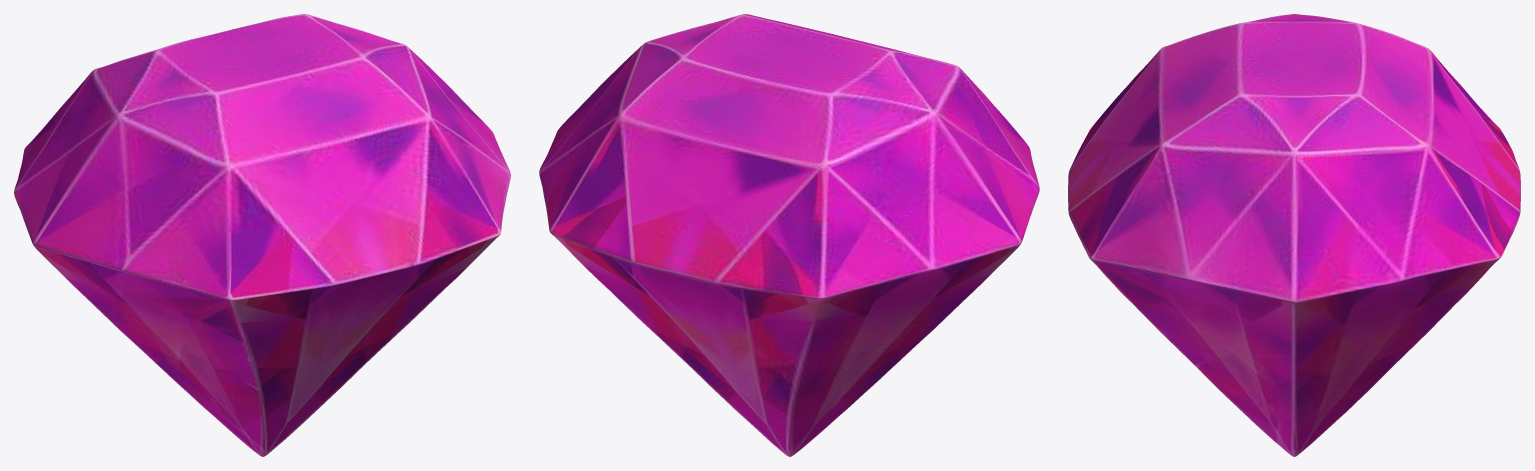
Rendered from BubbleWash_Pink_Gemstone_Claudia_Tiny.glb.
3 renders of one model, left to right at view 1: azimuth 30°, elevation 25°; view 2: azimuth 150°, elevation 25°; view 3: azimuth 270°, elevation 25°, orthographic.
Parts seen in each view (by area): view 1: world; view 2: world; view 3: world.
Part boxes in pixels (x1,y1,x2,y2): world: [14, 14, 510, 456]; world: [539, 14, 1039, 456]; world: [1068, 14, 1520, 456].
Bounding box in the file's own units: 1.9 × 1.59 × 1.64.
Materials: 1 (1 with a texture image).
